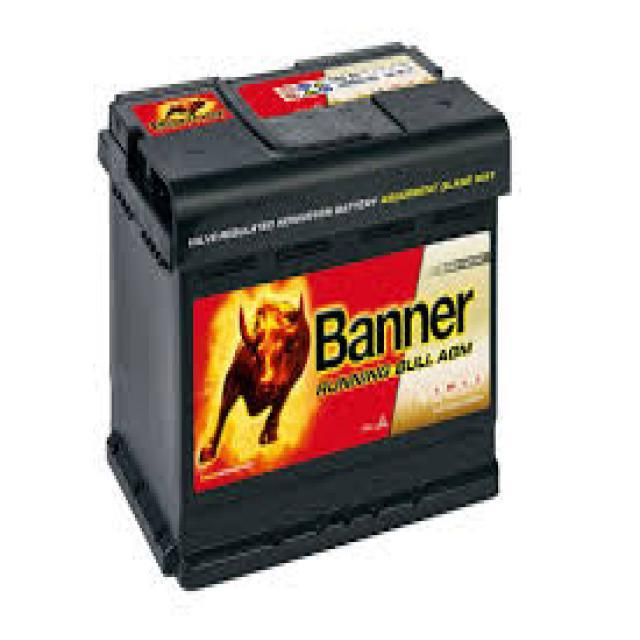battery: (94, 35, 502, 590)
